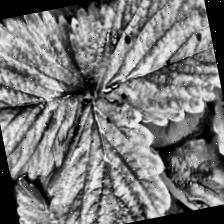Leaf Spot: (62, 0, 224, 142), (27, 84, 175, 224), (0, 5, 106, 185)
